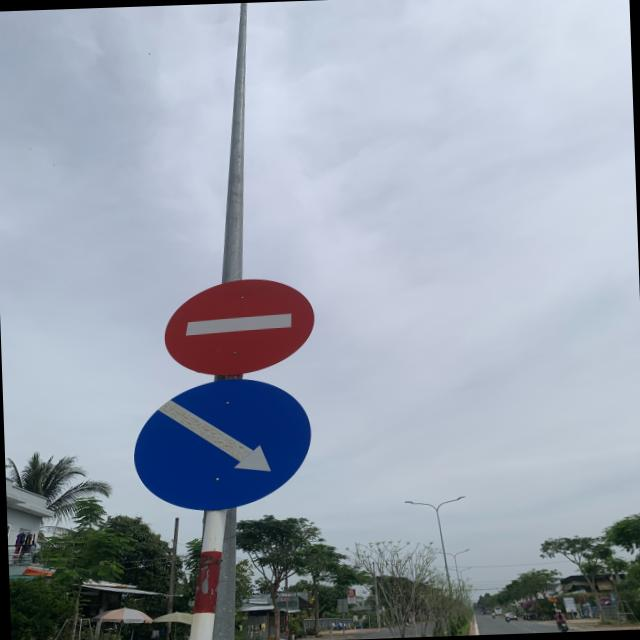Cam_Di_Nguoc_Chieu: (162, 274, 316, 378)
Chi_Huong_Di_Phai: (130, 374, 312, 516)
